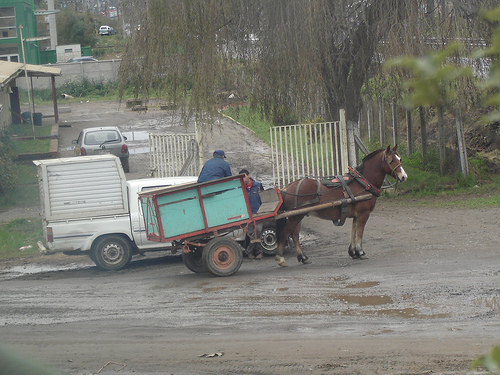horse: (274, 145, 408, 266)
